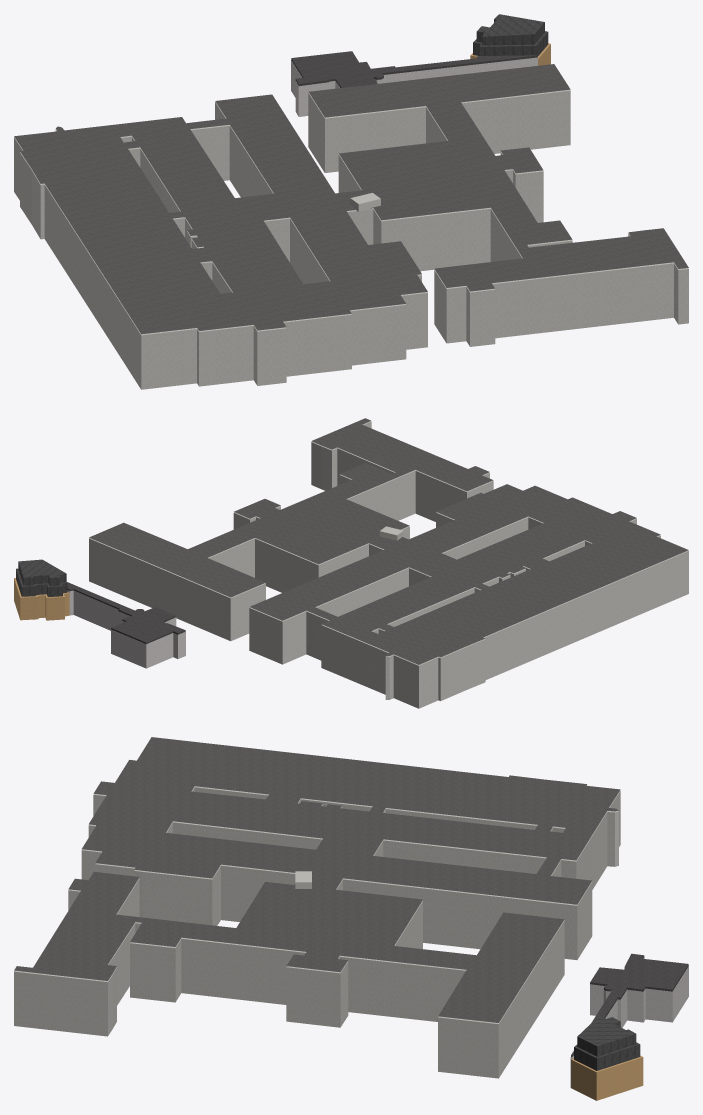
3 renders of one model, top to bottom at view 1: azimuth 30°, elevation 25°; view 2: azimuth 150°, elevation 25°; view 3: azimuth 270°, elevation 25°, orthographic. The views are drawn at different scales.
Visible parts, largest first — view 1: lmbase_7345816_roof, lmbase_7345816, lmbase_232921425_roof, lmbase_232921425, lmbase_503176291_roof_b, lmbase_503176291_roof_a; view 2: lmbase_7345816_roof, lmbase_7345816, lmbase_232921425, lmbase_232921425_roof, lmbase_503176291, lmbase_503176291_roof_b, lmbase_503176291_roof_a; view 3: lmbase_7345816_roof, lmbase_7345816, lmbase_232921425, lmbase_232921425_roof, lmbase_503176291, lmbase_503176291_roof_b, lmbase_503176291_roof_a.
Boxes of the visible parts, x1=… form: lmbase_7345816_roof: x1=14, y1=64, x2=688, y2=334; lmbase_7345816: x1=14, y1=89, x2=688, y2=389; lmbase_232921425_roof: x1=291, y1=51, x2=537, y2=87; lmbase_232921425: x1=291, y1=57, x2=537, y2=116; lmbase_503176291_roof_b: x1=476, y1=14, x2=544, y2=46; lmbase_503176291_roof_a: x1=473, y1=31, x2=548, y2=56; lmbase_7345816_roof: x1=89, y1=418, x2=688, y2=664; lmbase_7345816: x1=89, y1=421, x2=688, y2=708; lmbase_232921425: x1=67, y1=590, x2=185, y2=668; lmbase_232921425_roof: x1=67, y1=582, x2=185, y2=644; lmbase_503176291: x1=14, y1=578, x2=69, y2=620; lmbase_503176291_roof_b: x1=18, y1=559, x2=66, y2=586; lmbase_503176291_roof_a: x1=16, y1=568, x2=67, y2=597; lmbase_7345816_roof: x1=14, y1=737, x2=620, y2=1022; lmbase_7345816: x1=14, y1=785, x2=620, y2=1078; lmbase_232921425: x1=570, y1=957, x2=688, y2=1087; lmbase_232921425_roof: x1=571, y1=953, x2=688, y2=1057; lmbase_503176291: x1=571, y1=1055, x2=643, y2=1100; lmbase_503176291_roof_b: x1=577, y1=1016, x2=636, y2=1056; lmbase_503176291_roof_a: x1=574, y1=1042, x2=640, y2=1070.
Size of the model in its own units: 185 by 17.4 by 171.
6 materials, 6 textured.
